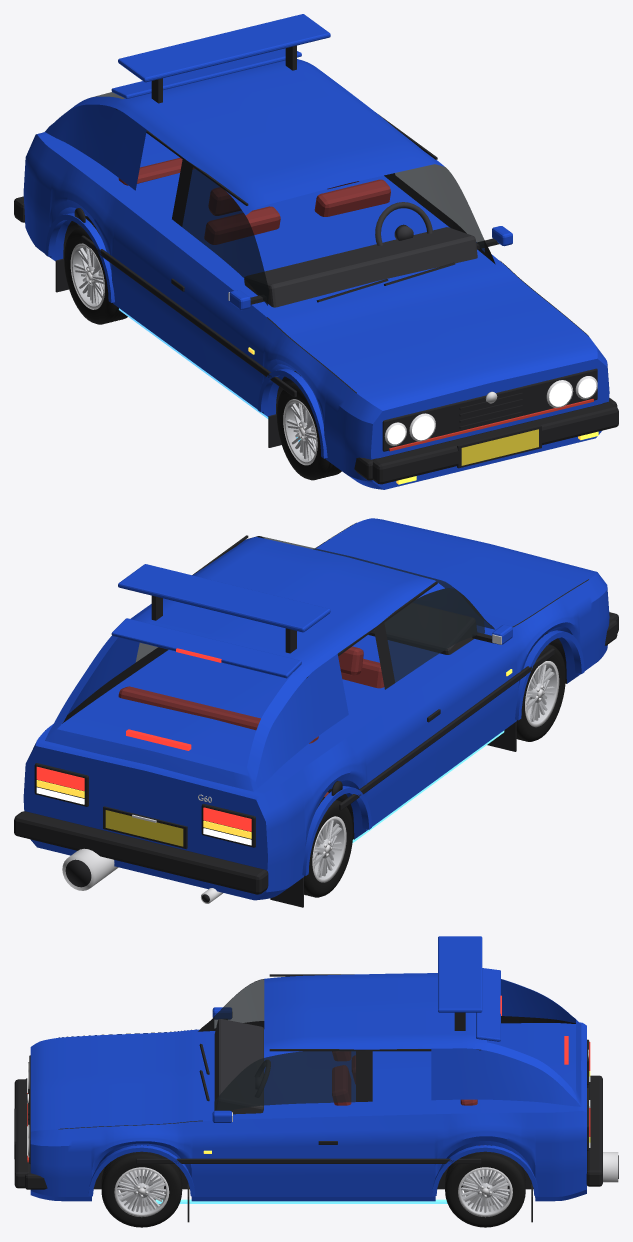
The model's file is golv.glb.
3 renders of one model, top to bottom at view 1: azimuth 30°, elevation 25°; view 2: azimuth 150°, elevation 25°; view 3: azimuth 270°, elevation 25°, orthographic. The views are drawn at different scales.
Parts seen in each view (by area): view 1: cabin_roof, hood, tub, nose, door_R, quarter_R, dash, cabin_glass, roofwing_blade, fender_R, bumper_front, grille (+16 smaller); view 2: cabin_roof, tub, tail, hood, door_R, quarter_R, bumper_rear, cabin_glass, roofwing_blade, fender_R, spoiler, dash (+20 smaller); view 3: cabin_roof, tub, door_L, hood, quarter_L, cabin_glass, fender_L, wheel_RL, wheel_FL, nose, dash, tail (+13 smaller).
Part boxes in pixels (x1,y1,x2,y2): cabin_roof: (45, 59, 444, 215); hood: (268, 261, 588, 393); tub: (46, 133, 499, 317); nose: (345, 337, 609, 489); door_R: (148, 233, 266, 408); quarter_R: (33, 144, 159, 330); dash: (244, 227, 477, 307); cabin_glass: (92, 92, 484, 305); roofwing_blade: (118, 14, 330, 82); fender_R: (255, 318, 356, 474); bumper_front: (372, 402, 618, 484); grille: (382, 368, 597, 451); cabin_roof: (45, 536, 444, 791); tub: (46, 629, 492, 786); tail: (23, 730, 288, 900); hood: (315, 523, 587, 632); door_R: (393, 642, 511, 803); quarter_R: (277, 706, 404, 895); bumper_rear: (14, 811, 268, 894); cabin_glass: (135, 536, 494, 682); roofwing_blade: (118, 564, 330, 632); fender_R: (504, 580, 600, 725); spoiler: (111, 618, 301, 678); dash: (368, 603, 476, 654); cabin_roof: (264, 973, 581, 1106); tub: (203, 1023, 561, 1120); door_L: (203, 1115, 375, 1201); hood: (58, 1029, 202, 1128); quarter_L: (375, 1112, 561, 1201); cabin_glass: (214, 979, 355, 1110); fender_L: (58, 1121, 202, 1201); wheel_RL: (445, 1151, 525, 1227); wheel_FL: (101, 1151, 182, 1227); nose: (30, 1038, 58, 1200); dash: (214, 1019, 263, 1114); tail: (562, 1022, 586, 1200).
Bounding box in the file's own units: 1.83 × 1.65 × 4.35.
